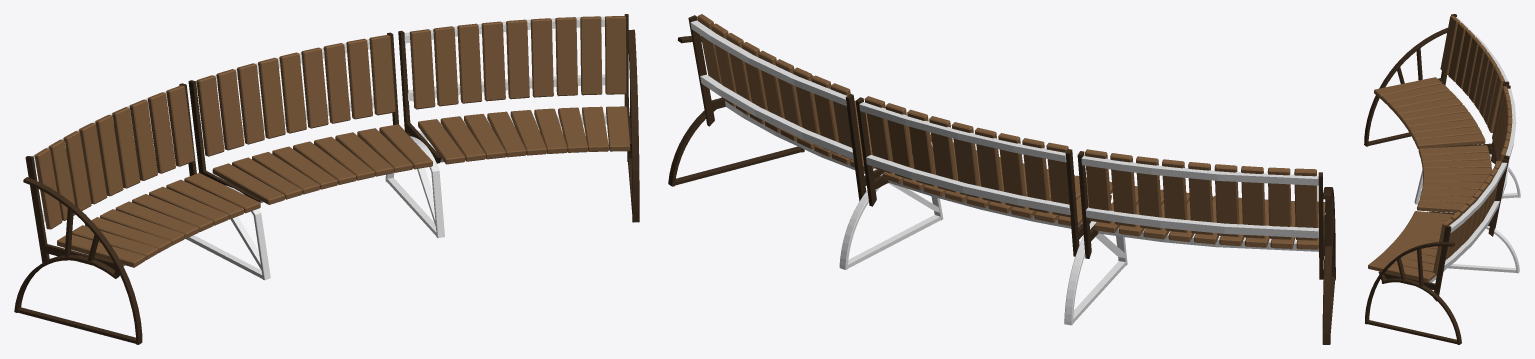
3 renders of one model, left to right at view 1: azimuth 30°, elevation 25°; view 2: azimuth 150°, elevation 25°; view 3: azimuth 270°, elevation 25°, orthographic. The views are drawn at different scales.
Visible parts, largest first — view 1: B-23.2; view 2: B-23.2; view 3: B-23.2.
Part boxes in pixels (left/top/right/bottom): B-23.2: left=14, top=14, right=639, bottom=344; B-23.2: left=668, top=14, right=1335, bottom=344; B-23.2: left=1364, top=14, right=1520, bottom=344.
Size of the model in its own units: 364 by 87.99 by 109.
